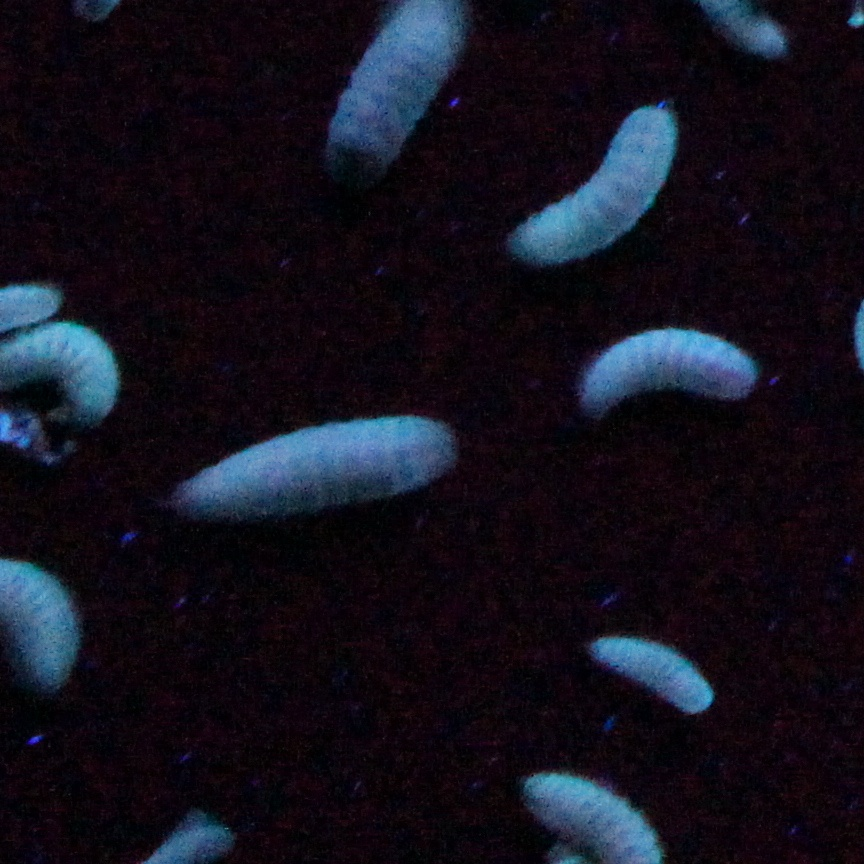larve: (182, 419, 453, 519), (508, 101, 673, 263), (577, 314, 762, 419), (590, 625, 713, 714)
